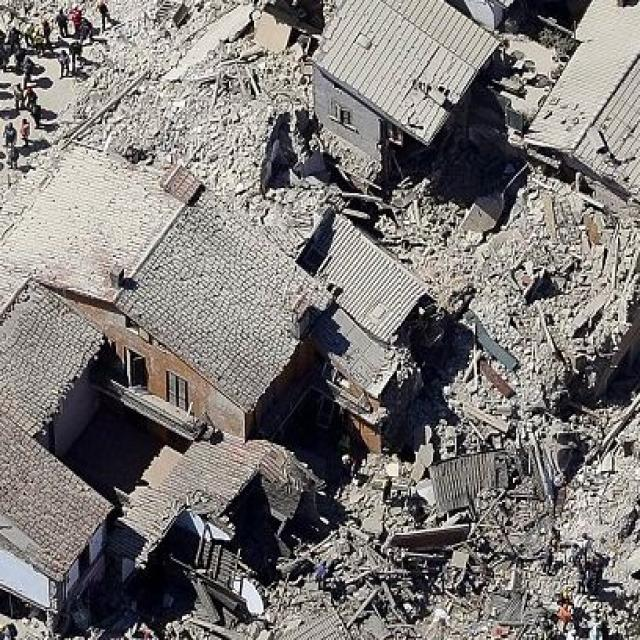collapsed_building: (341, 457, 638, 638), (436, 138, 631, 411), (131, 0, 417, 110)
